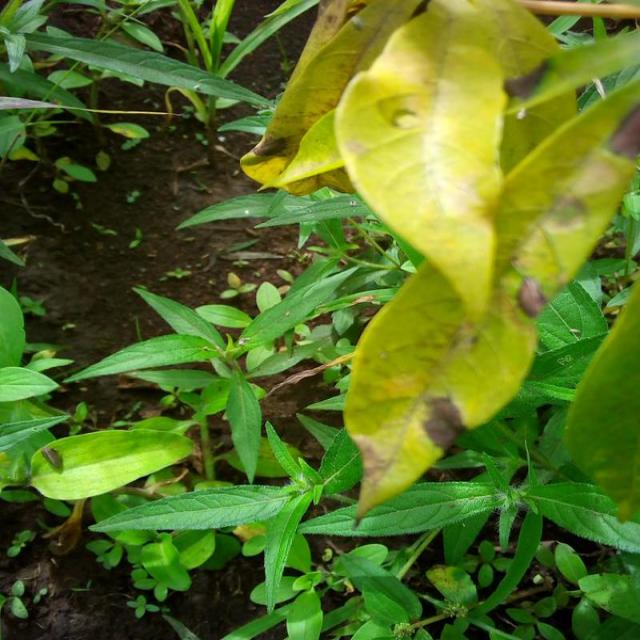cassava leaf: (240, 0, 638, 521)
